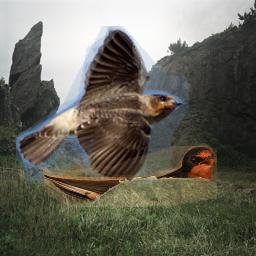Swallow: (16, 26, 189, 184), (44, 145, 217, 207)
